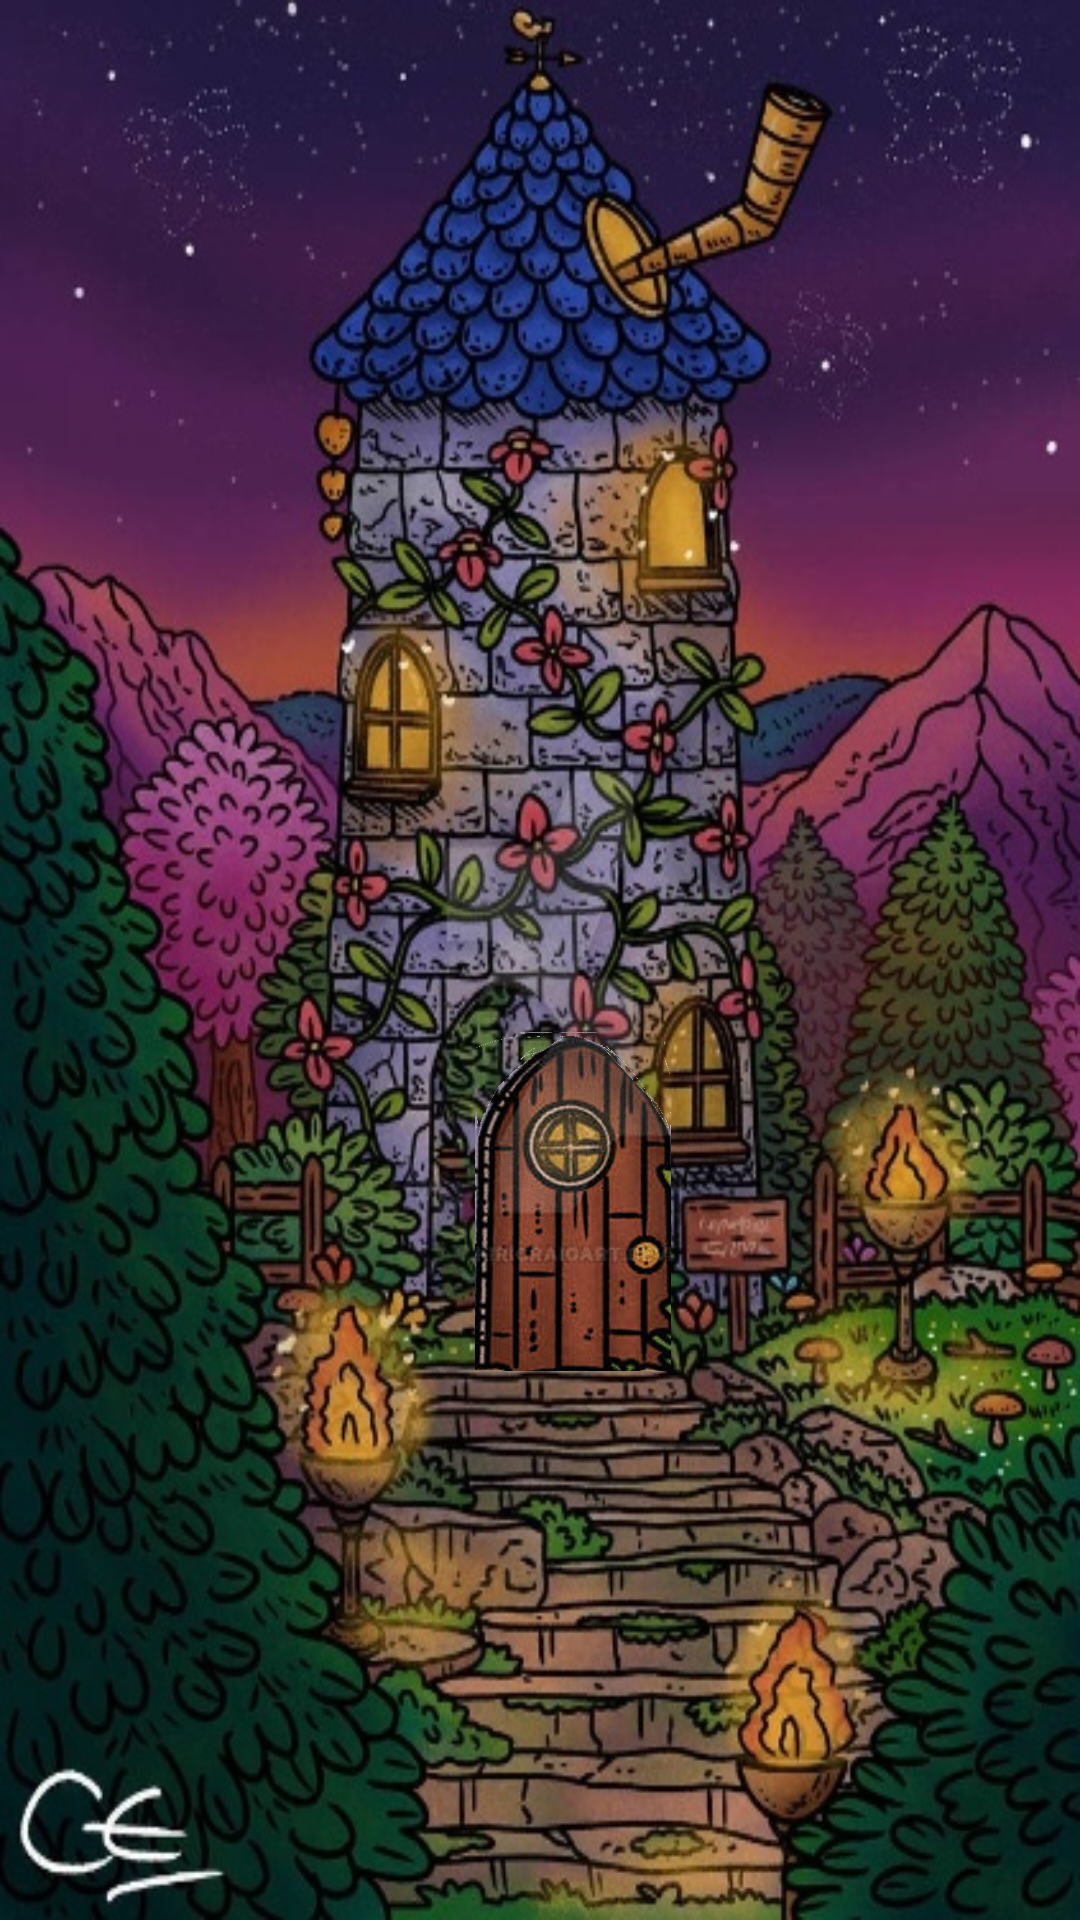

Icon click points for this 1080 × 1920 phone screenshot, format (x,y):
editdoor: (573,1201)
